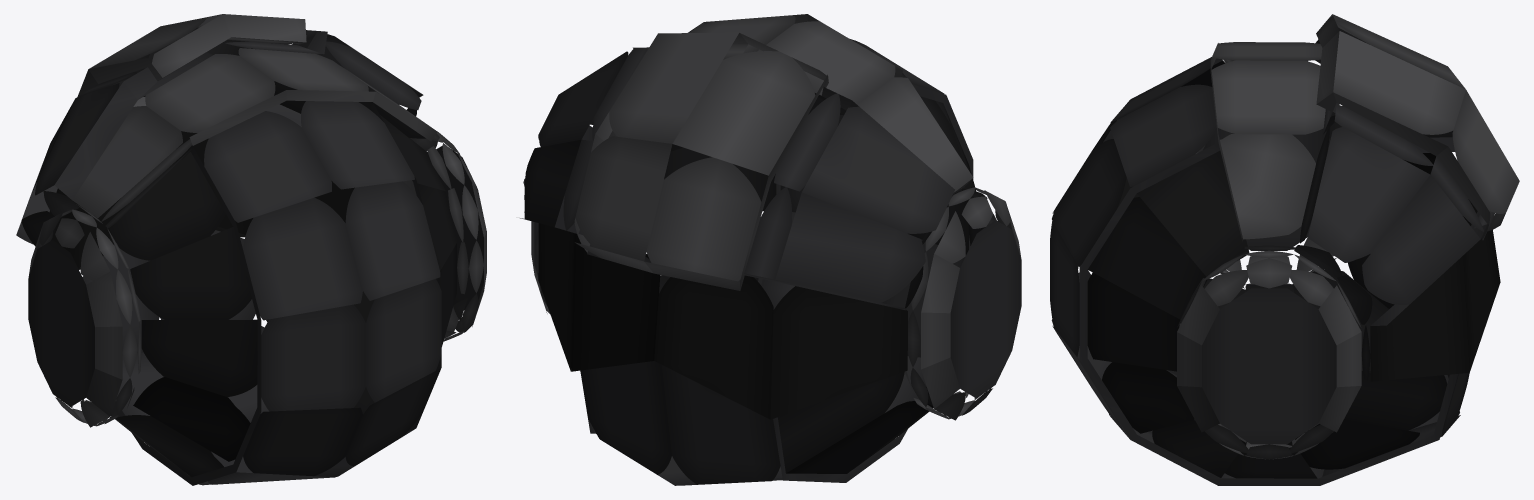
File: BlackwingHead.obj
3 renders of one model, left to right at view 1: azimuth 30°, elevation 25°; view 2: azimuth 150°, elevation 25°; view 3: azimuth 270°, elevation 25°, orthographic. The views are drawn at different scales.
Parts seen in each view (by area): view 1: sphere; view 2: sphere; view 3: sphere.
Boxes of the visible parts, box(x1,y1,x2,y2) form: sphere: box(16, 14, 486, 485); sphere: box(520, 14, 1021, 485); sphere: box(1050, 14, 1519, 485).
Size of the model in its own units: 0.4082 by 0.4165 by 0.4189.
Materials: 1 (1 with a texture image).
